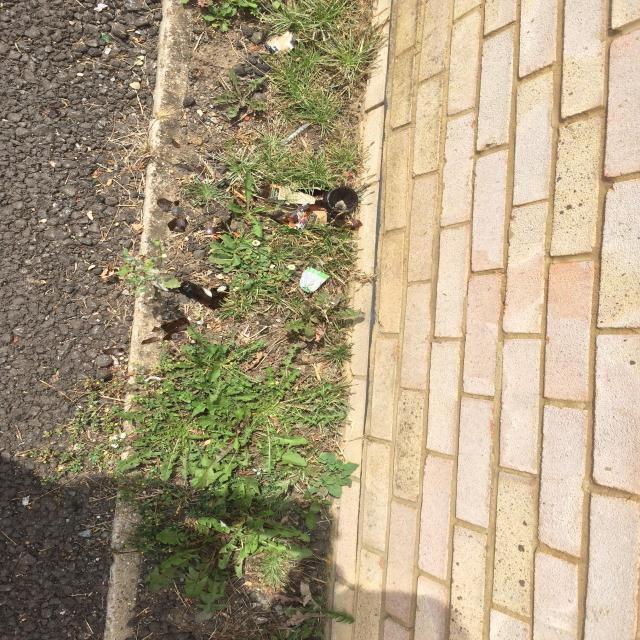litter: (264, 179, 335, 233), (256, 18, 305, 66), (316, 182, 369, 217), (295, 261, 335, 297)
